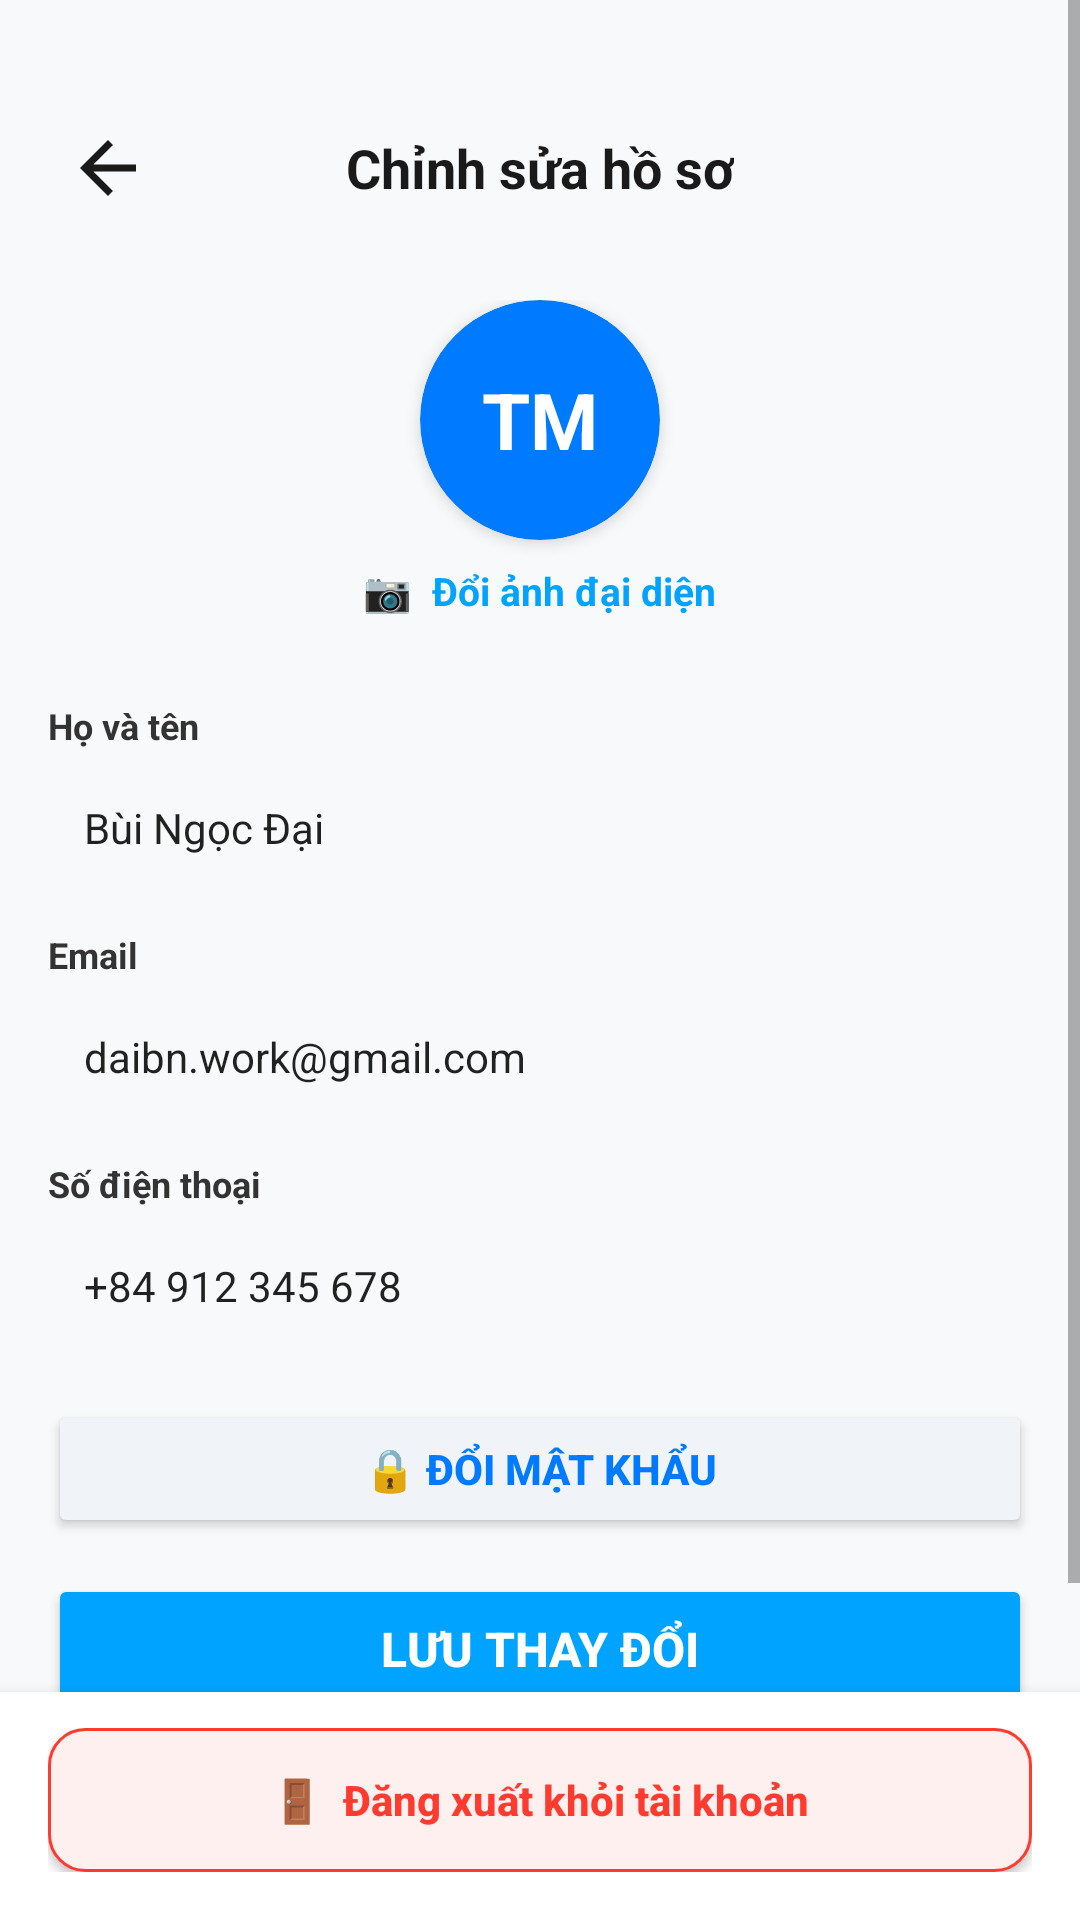

Icon bounding boxes for this 1080px x 1920px phone screenshot, format (x1,y1,x2,y2):
arrow back: (80,140,136,196)
